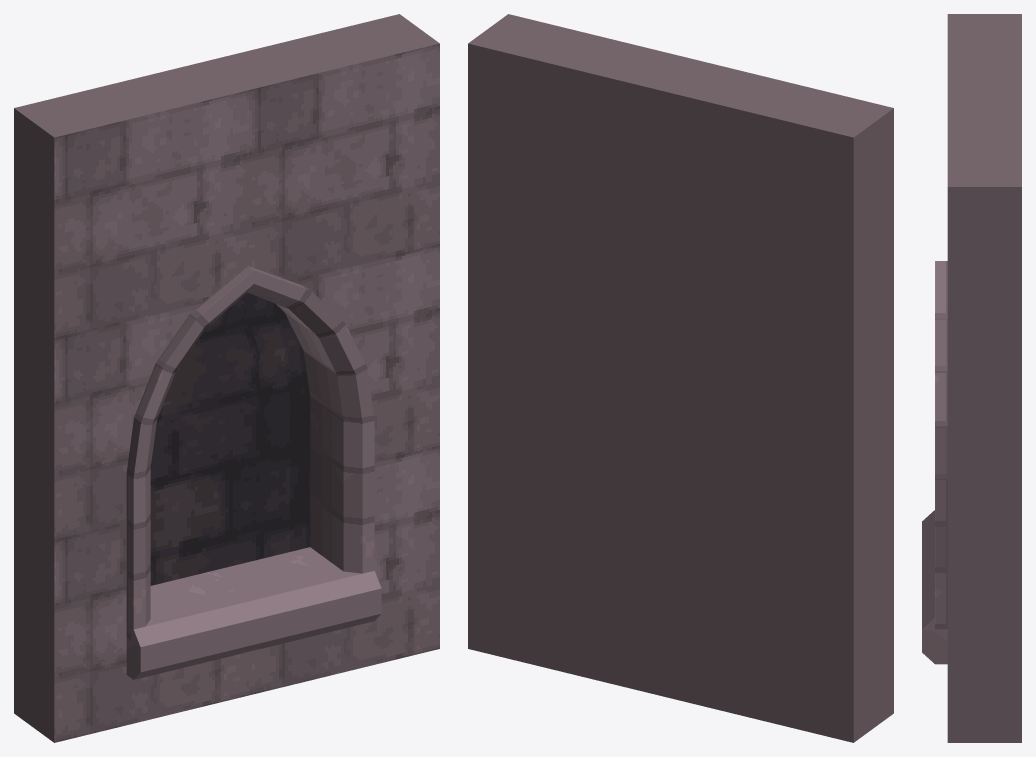
Rendered from wandnische_t30_b.glb.
3 views of the same model, side by side, from view 1: azimuth 30°, elevation 25°; view 2: azimuth 150°, elevation 25°; view 3: azimuth 270°, elevation 25° (orthographic). The views are drawn at different scales.
Parts seen in each view (by area): view 1: platte, gewaende, sohlbank; view 2: platte; view 3: platte, gewaende, sohlbank.
Part boxes in pixels (bbox=[...]): platte: bbox=[14, 14, 439, 742]; gewaende: bbox=[126, 265, 374, 639]; sohlbank: bbox=[126, 547, 381, 679]; platte: bbox=[468, 14, 893, 742]; platte: bbox=[947, 14, 1021, 742]; gewaende: bbox=[935, 261, 947, 629]; sohlbank: bbox=[922, 510, 947, 664].
Size of the model in its own units: 2 by 3 by 0.4875.
1 material, 1 textured.
